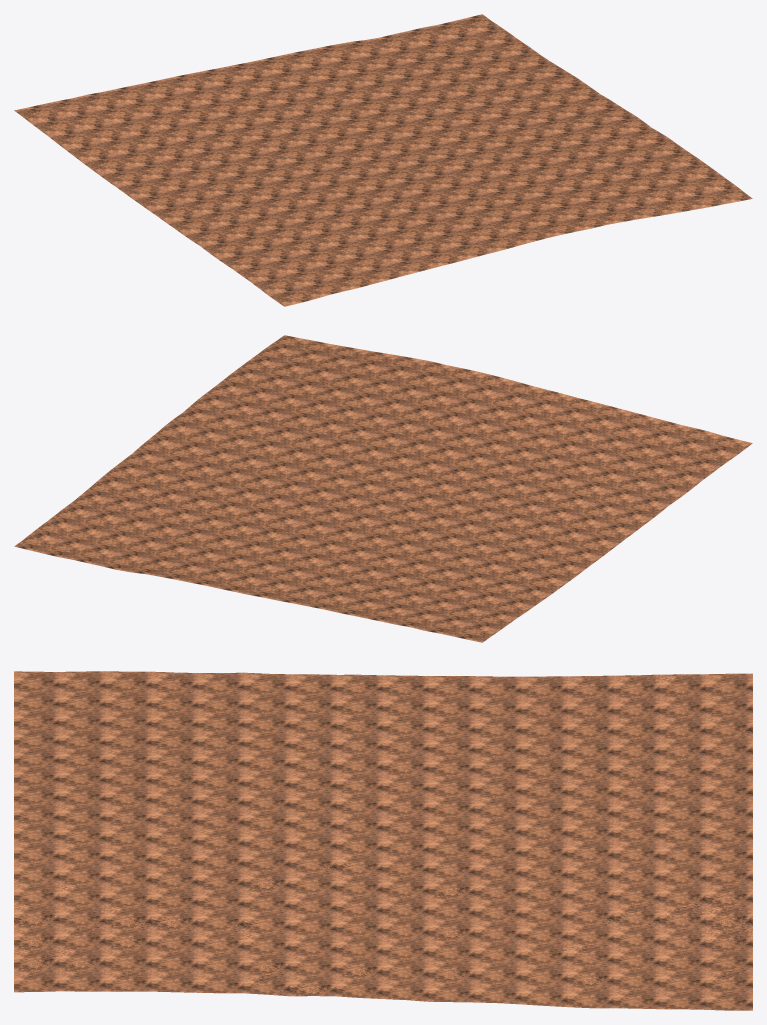
Rendered from terrain_10_22.dae.
3 renders of one model, top to bottom at view 1: azimuth 30°, elevation 25°; view 2: azimuth 150°, elevation 25°; view 3: azimuth 270°, elevation 25°, orthographic. The views are drawn at different scales.
Parts seen in each view (by area): view 1: terrain_10_22-node; view 2: terrain_10_22-node; view 3: terrain_10_22-node.
Part boxes in pixels (bbox=[...]): terrain_10_22-node: bbox=[14, 14, 752, 306]; terrain_10_22-node: bbox=[14, 335, 752, 642]; terrain_10_22-node: bbox=[14, 671, 752, 1010].
Size of the model in its own units: 128 by 128 by 6.35.
1 material, 1 textured.
